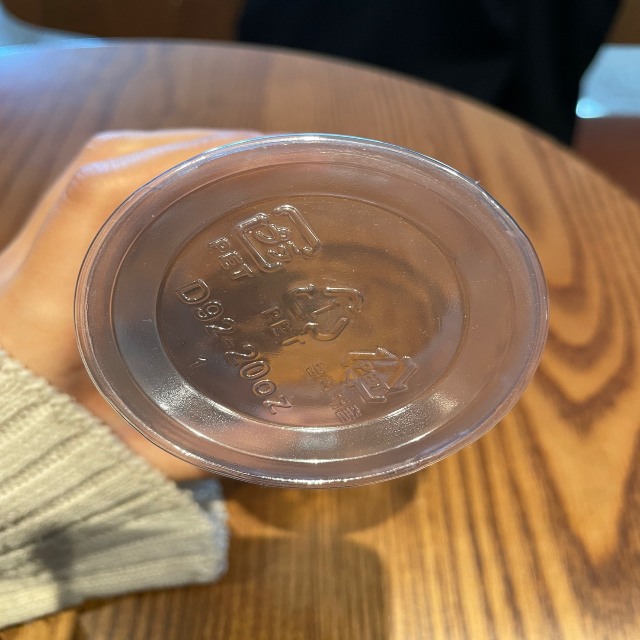pet: (206, 202, 327, 284), (303, 346, 422, 424), (261, 277, 365, 349)
